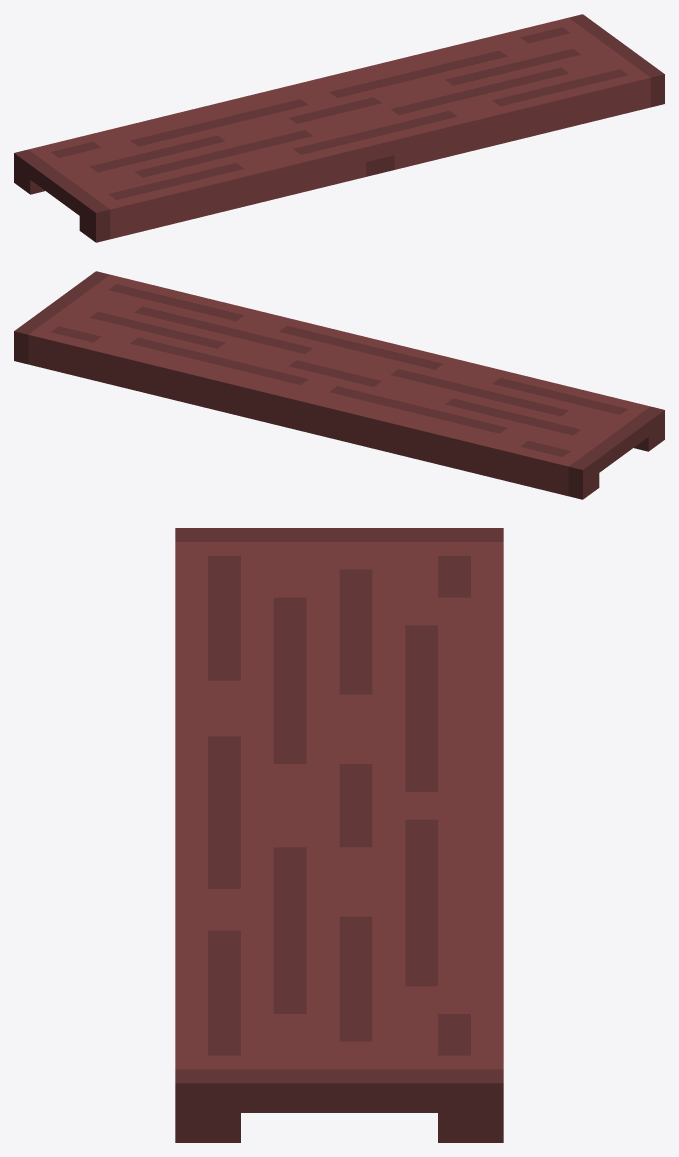
The model's file is troncoGrande.obj.
The picture shows the model from 3 angles, top to bottom: view 1: azimuth 30°, elevation 25°; view 2: azimuth 150°, elevation 25°; view 3: azimuth 270°, elevation 25°; orthographic projection. The views are drawn at different scales.
Size of the model in its own units: 40 by 2 by 10.
1 material, 1 textured.
